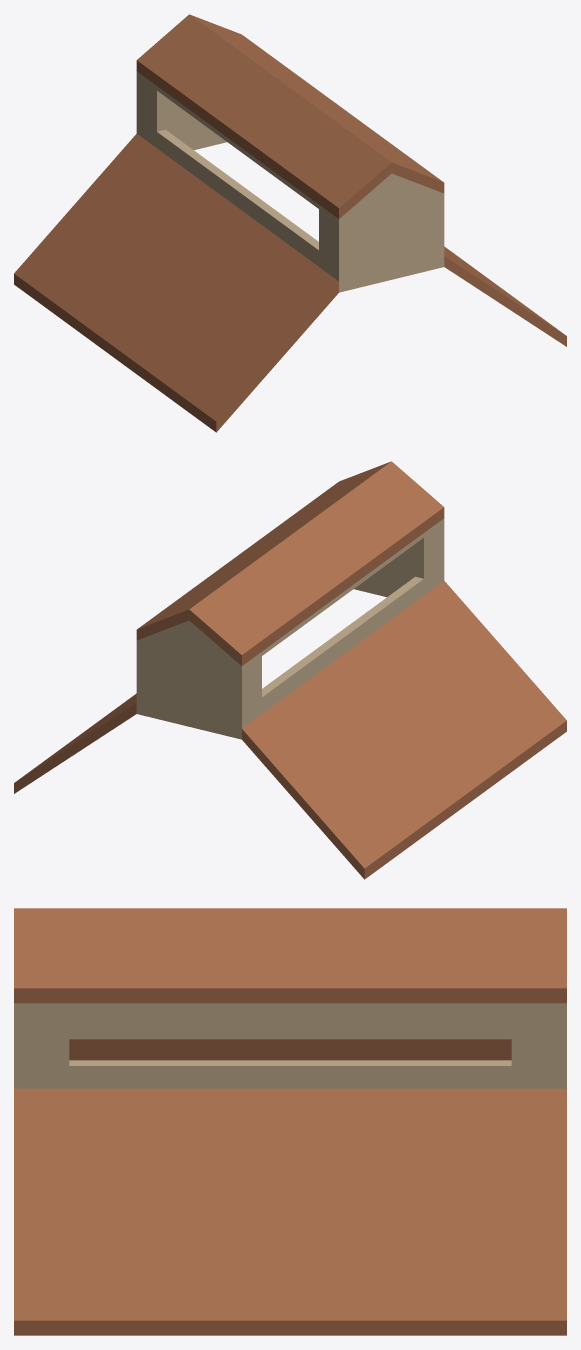
3 renders of one model, top to bottom at view 1: azimuth 30°, elevation 25°; view 2: azimuth 150°, elevation 25°; view 3: azimuth 270°, elevation 25°, orthographic. The views are drawn at different scales.
Parts seen in each view (by area): view 1: WholeRaisedMonitorRoofAndTwinLongitudinalOpenings; view 2: WholeRaisedMonitorRoofAndTwinLongitudinalOpenings; view 3: WholeRaisedMonitorRoofAndTwinLongitudinalOpenings.
Boxes of the visible parts, x1,y1,x2,y2 form: WholeRaisedMonitorRoofAndTwinLongitudinalOpenings: (14,14,566,432); WholeRaisedMonitorRoofAndTwinLongitudinalOpenings: (14,461,566,879); WholeRaisedMonitorRoofAndTwinLongitudinalOpenings: (14,908,566,1335).
Bounding box in the file's own units: 4 × 2.48 × 4.
